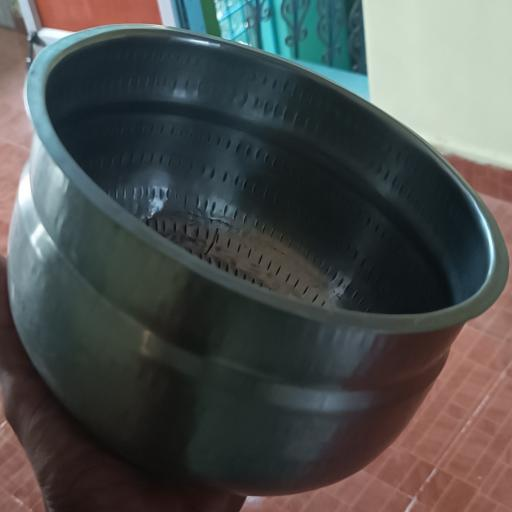vessel: (8, 26, 508, 494)
